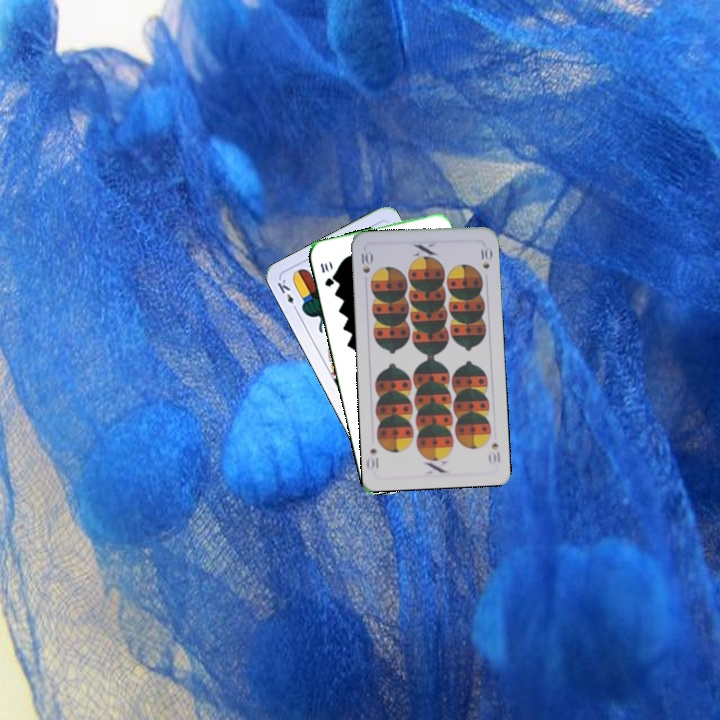EK: (273, 275, 300, 314)
G10: (316, 258, 336, 289)
S10: (485, 438, 503, 467), (357, 246, 374, 276)
